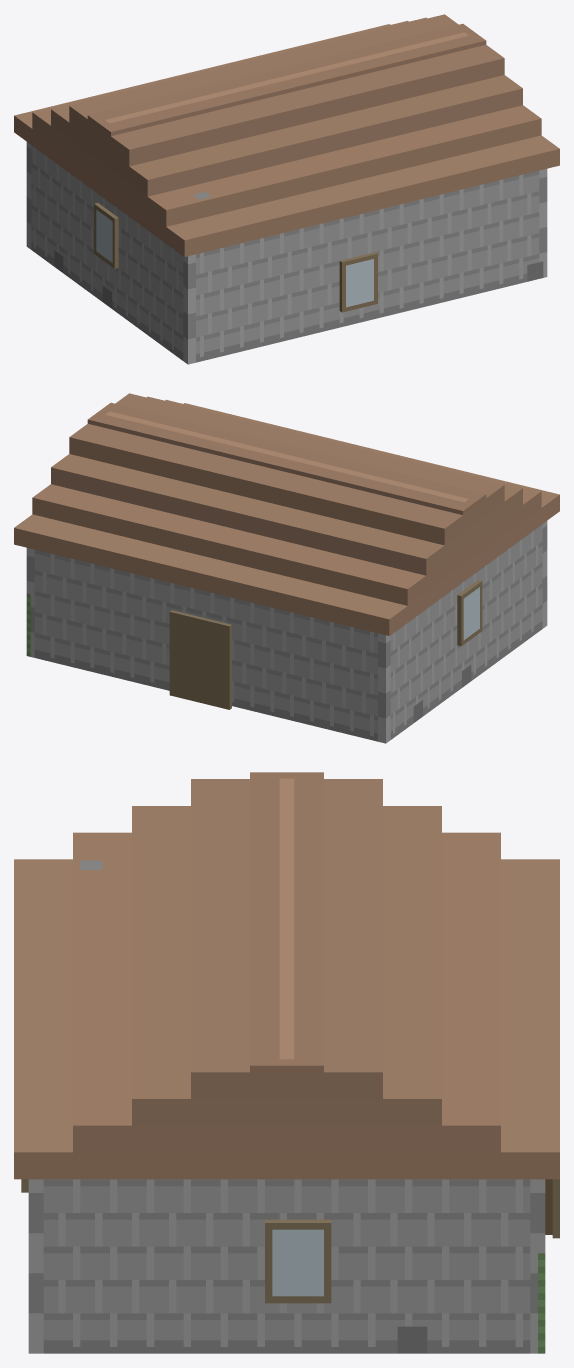
File: molino_agua_02.glb
3 renders of one model, top to bottom at view 1: azimuth 30°, elevation 25°; view 2: azimuth 150°, elevation 25°; view 3: azimuth 270°, elevation 25°, orthographic. The views are drawn at different scales.
Parts seen in each view (by area): view 1: molino_agua_02; view 2: molino_agua_02; view 3: molino_agua_02.
Part boxes in pixels (x1,y1,x2,y2): molino_agua_02: (14,14,559,364); molino_agua_02: (14,393,559,743); molino_agua_02: (14,772,559,1353).
Size of the model in its own units: 9.4 by 4.4 by 7.4.
